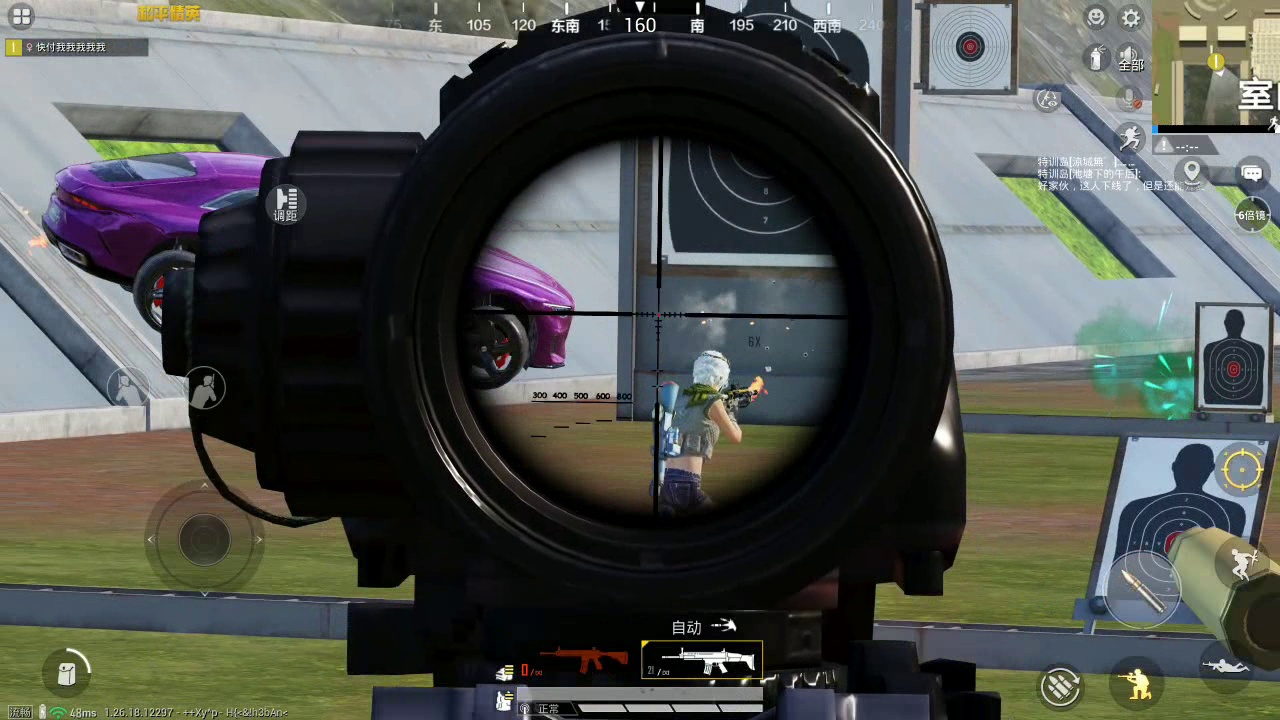enemy: (655, 349, 735, 515)
